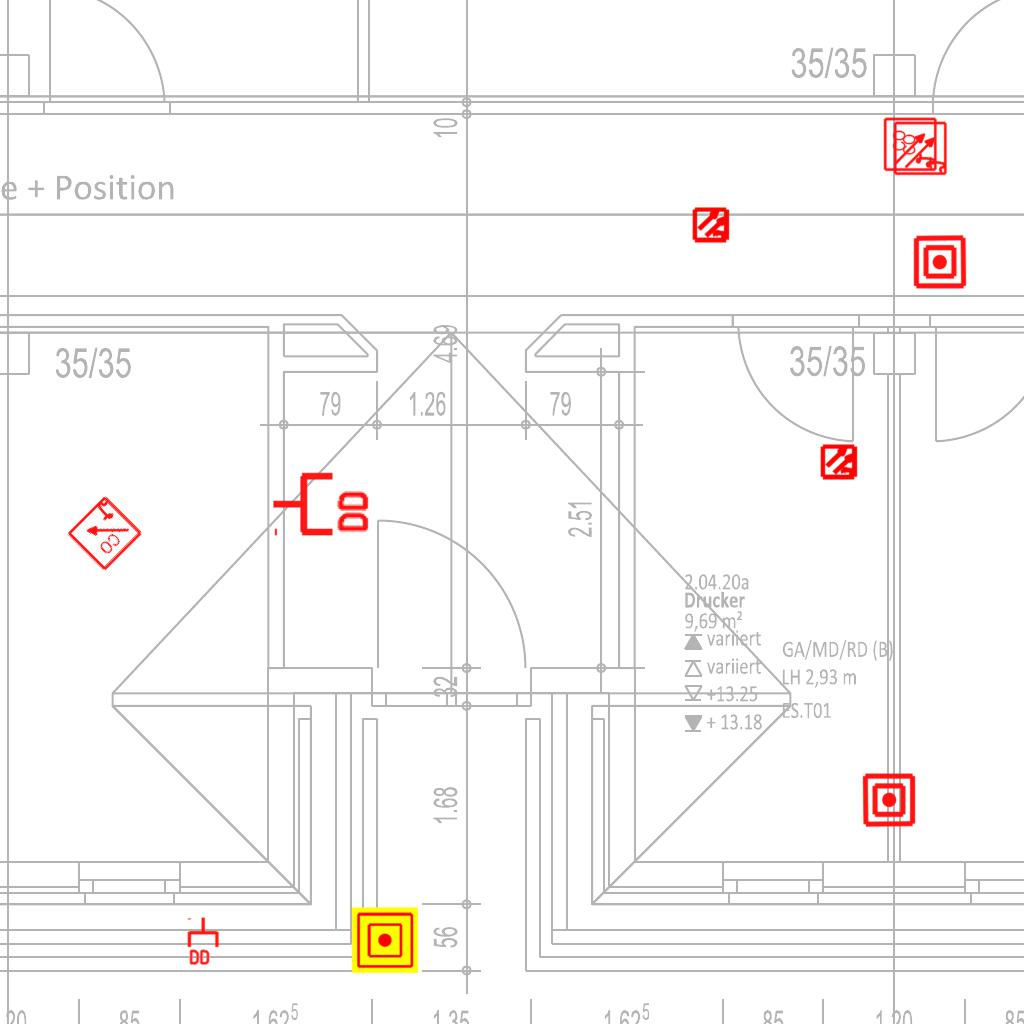Datenanschluss_zweifach: (270, 468, 373, 537), (187, 916, 221, 967)
NAM-Nichtautomatischer_Melder: (352, 907, 418, 973), (861, 772, 917, 828), (912, 234, 968, 290)
OT_Multisensormelder_(Kombination_RMO_WMD): (684, 197, 740, 253), (812, 434, 868, 490)
ROA_Rauchmelder_optisch_mit_Signalgeber_(Sockelsirene): (64, 493, 144, 573), (883, 116, 939, 172), (893, 120, 949, 176)
